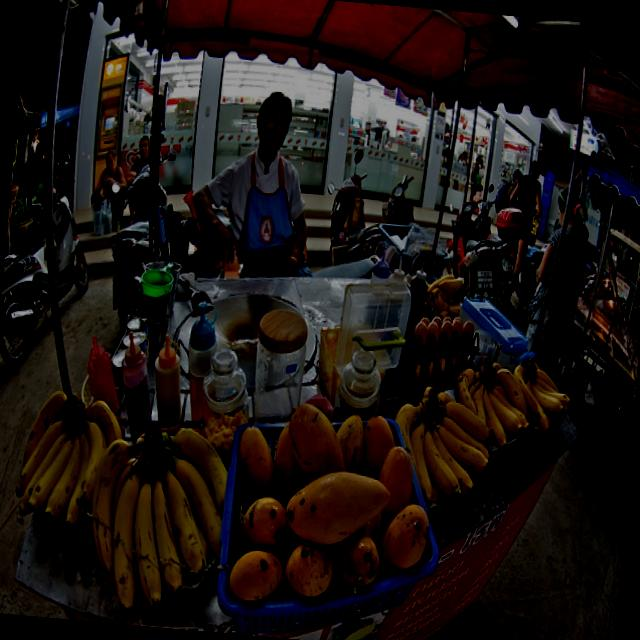Vehicle: (0, 190, 96, 372), (439, 179, 530, 310), (98, 156, 156, 332), (319, 144, 373, 253), (385, 170, 417, 224)
